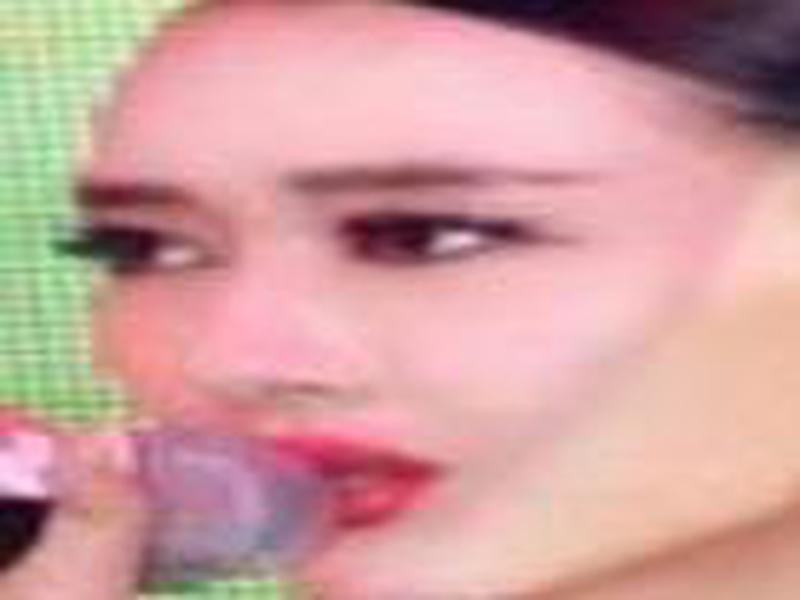without_mask: (68, 46, 731, 589)
